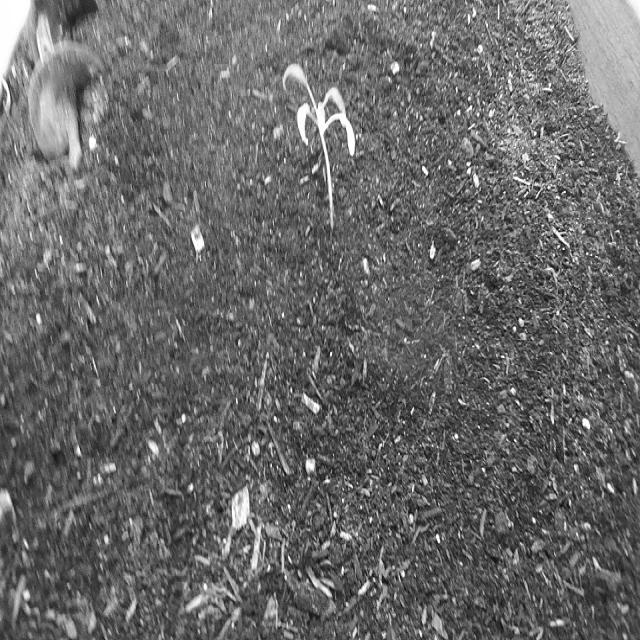Healthy: (283, 61, 358, 238)
